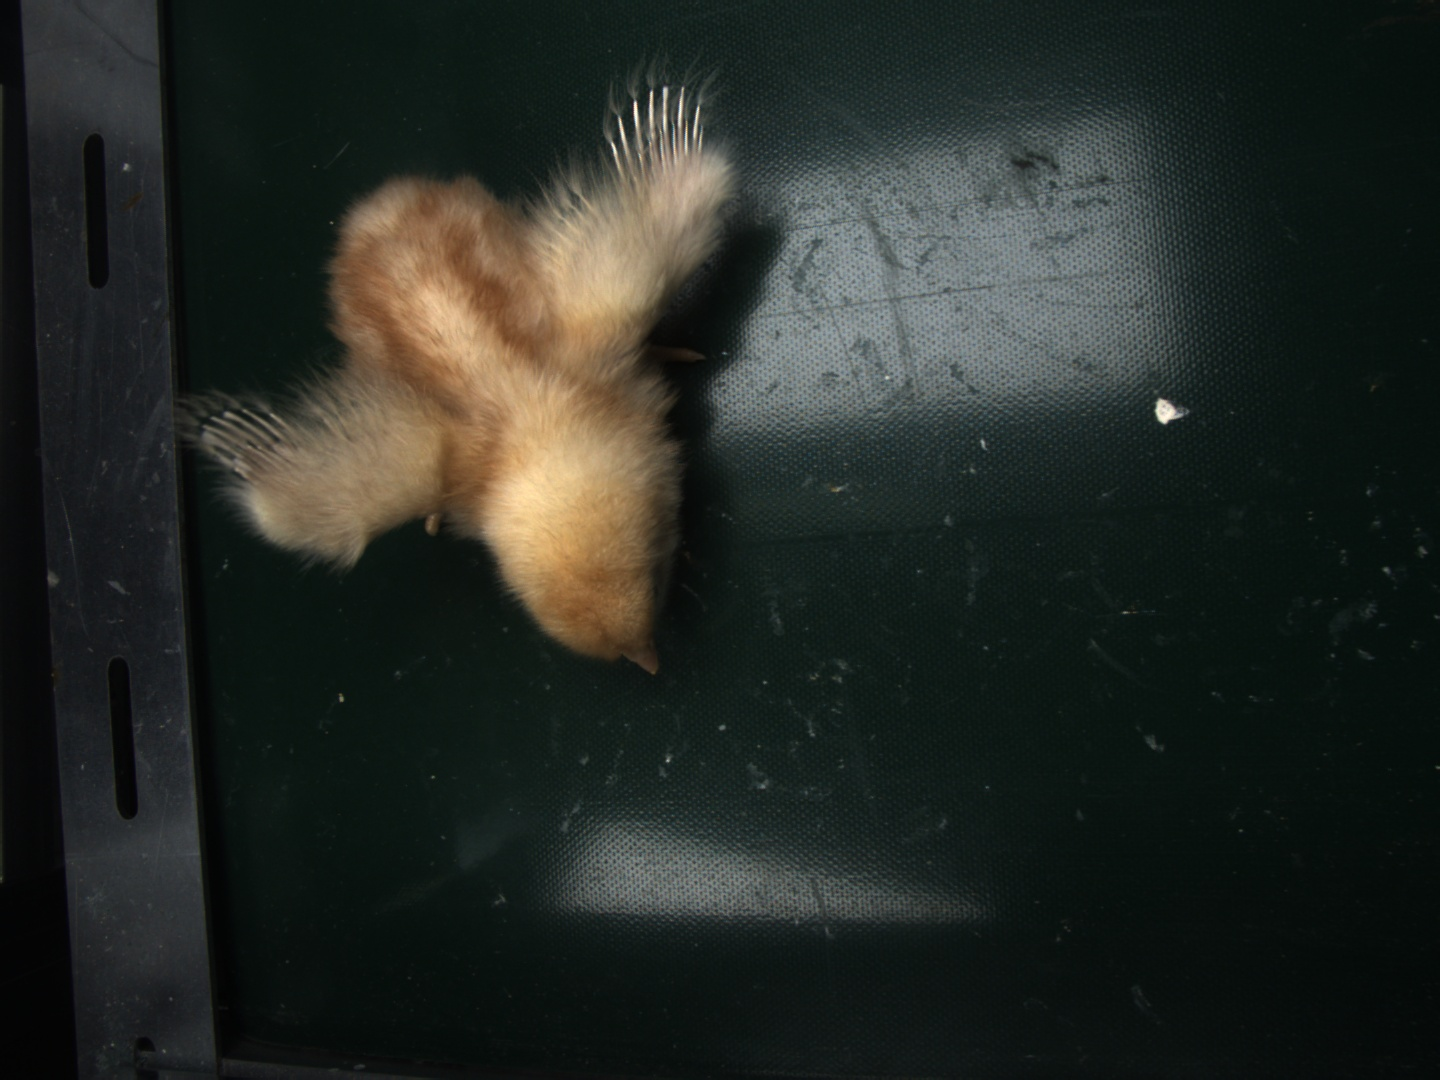female: (605, 84, 708, 189)
